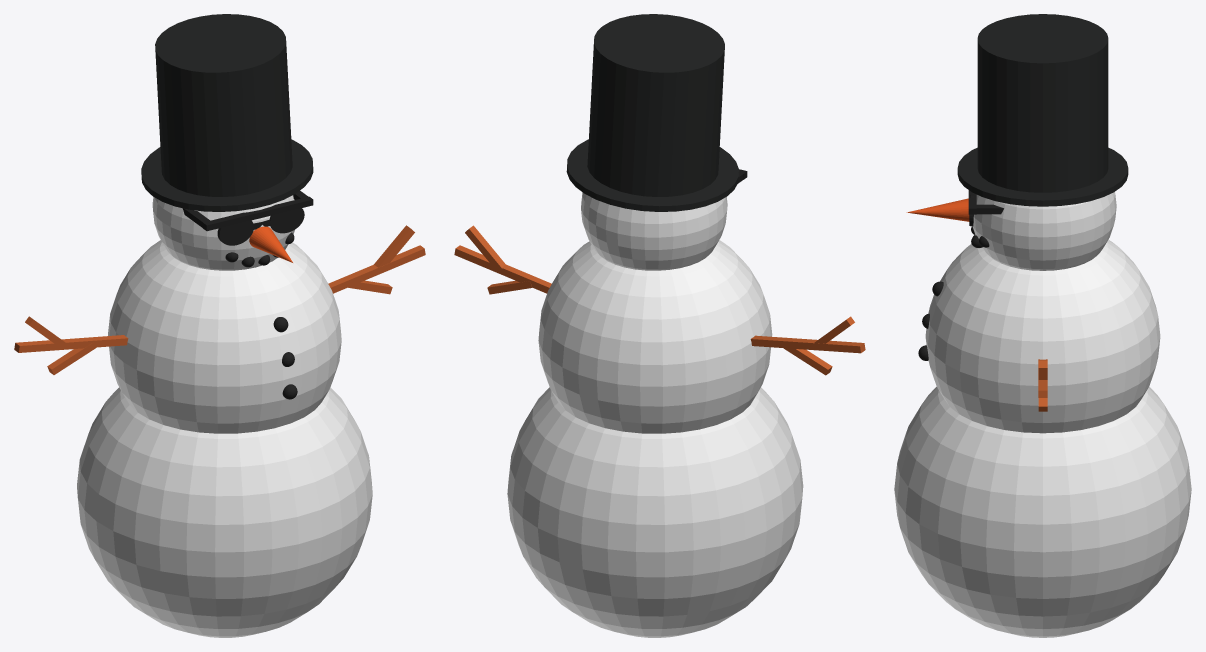
Rendered from SNOWMAN.gltf.
3 views of the same model, side by side, from view 1: azimuth 30°, elevation 25°; view 2: azimuth 150°, elevation 25°; view 3: azimuth 270°, elevation 25° (orthographic).
Visible parts, largest first — view 1: Sphere, Sphere.001, Cylinder.001, Sphere.002, Cylinder, Cube.003, Cube, Cube.006, Cone, Cylinder.002, Cylinder.003, Cube.001; view 2: Sphere, Sphere.001, Cylinder.001, Sphere.002, Cylinder, Cube.003, Cube, Cube.001; view 3: Sphere, Sphere.001, Cylinder.001, Sphere.002, Cylinder, Cone.
Boxes of the visible parts, x1,y1,x2,y2 form: Sphere: (77, 387, 372, 637); Sphere.001: (108, 240, 341, 433); Cylinder.001: (155, 14, 292, 196); Sphere.002: (152, 195, 294, 270); Cylinder: (141, 139, 313, 211); Cube.003: (14, 335, 128, 352); Cube: (328, 245, 425, 293); Cube.006: (203, 196, 313, 231); Cone: (249, 226, 292, 262); Cylinder.002: (217, 215, 253, 245); Cylinder.003: (269, 203, 304, 233); Cube.001: (374, 225, 414, 267); Sphere: (507, 387, 803, 637); Sphere.001: (538, 240, 772, 433); Cylinder.001: (587, 14, 724, 196); Sphere.002: (581, 192, 727, 270); Cylinder: (566, 139, 738, 211); Cube.003: (750, 335, 865, 353); Cube: (454, 245, 551, 293); Cube.001: (465, 225, 505, 272); Sphere: (894, 386, 1191, 637); Sphere.001: (925, 239, 1160, 433); Cylinder.001: (977, 14, 1108, 192); Sphere.002: (972, 192, 1116, 270); Cylinder: (957, 147, 1128, 206); Cone: (906, 198, 969, 221).
Bounding box in the file's own units: 6.02 × 8.27 × 3.8.
